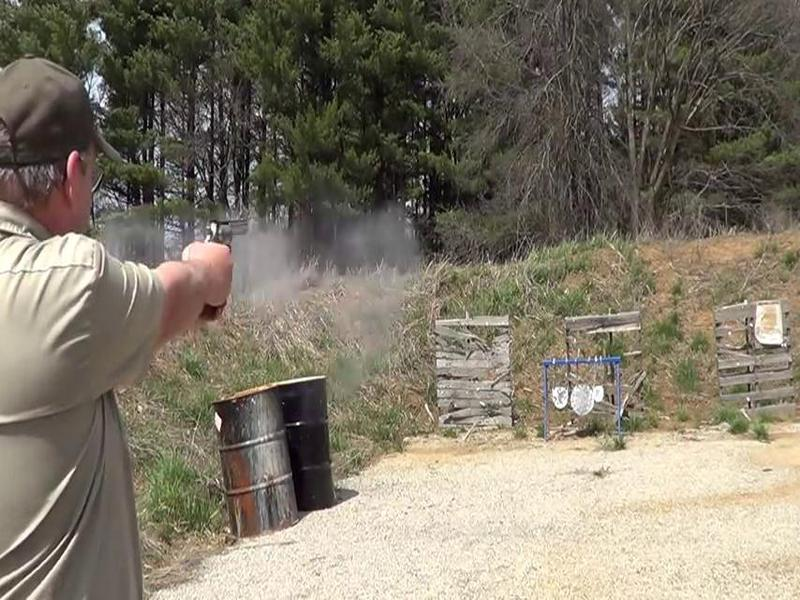Revolver: (194, 203, 258, 274)
